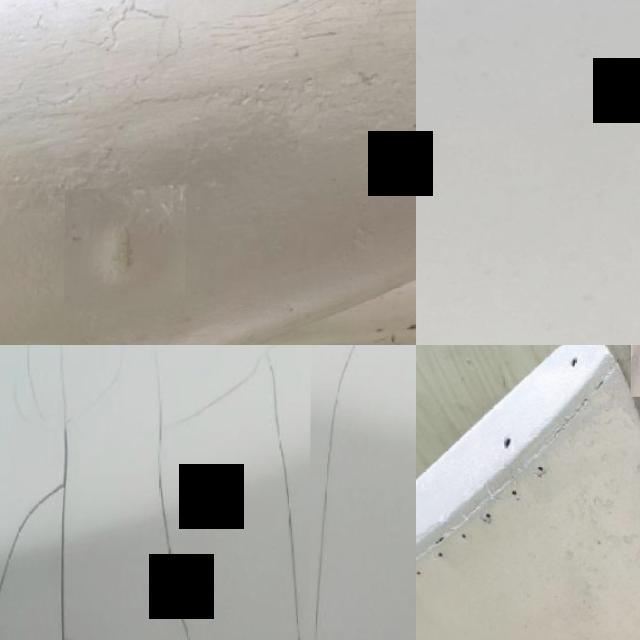Crack: (167, 348, 304, 640), (0, 414, 71, 640), (312, 345, 363, 640), (152, 348, 194, 640)
Dent: (65, 188, 186, 314)
